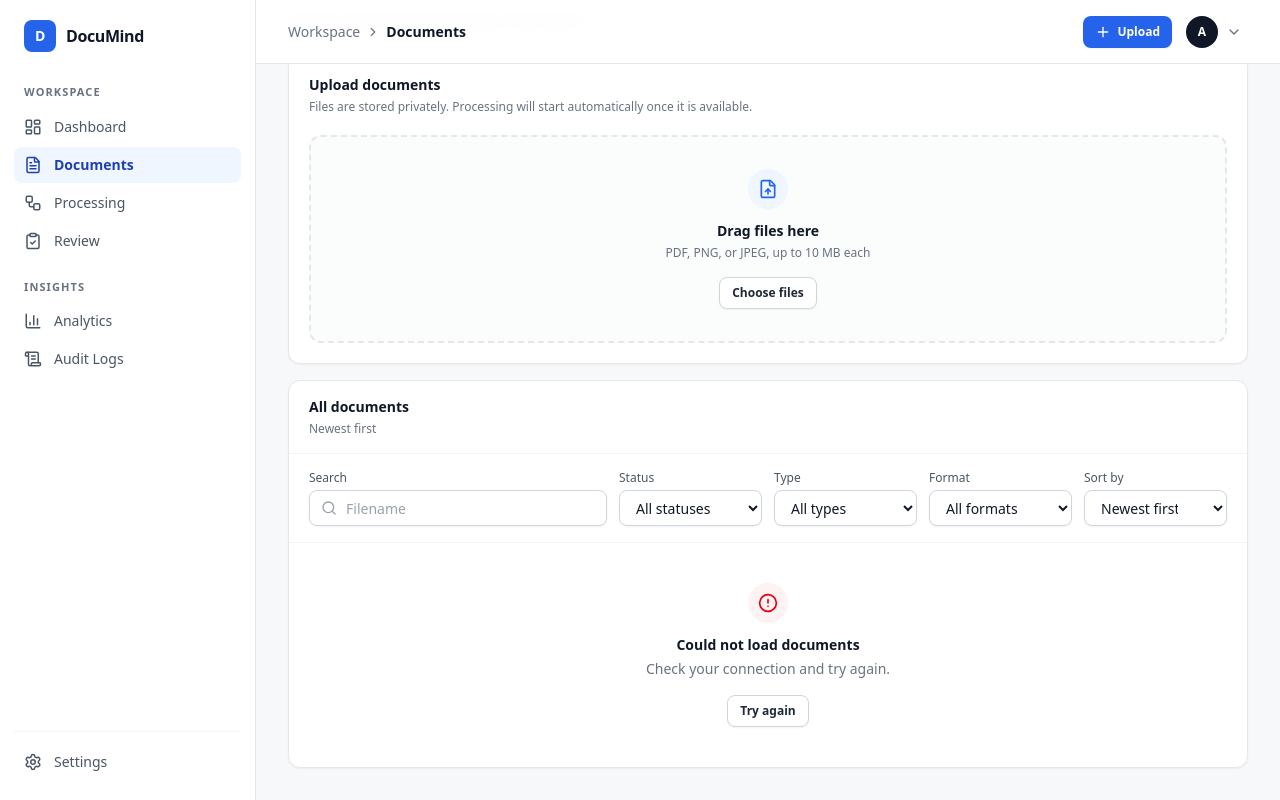
Test: DocumentsPage › list › shows an error with retry when the list cannot load
(page scrolled)
Click the button "Try again" at [768, 711], box [727,695,809,727]
(page scrolled)
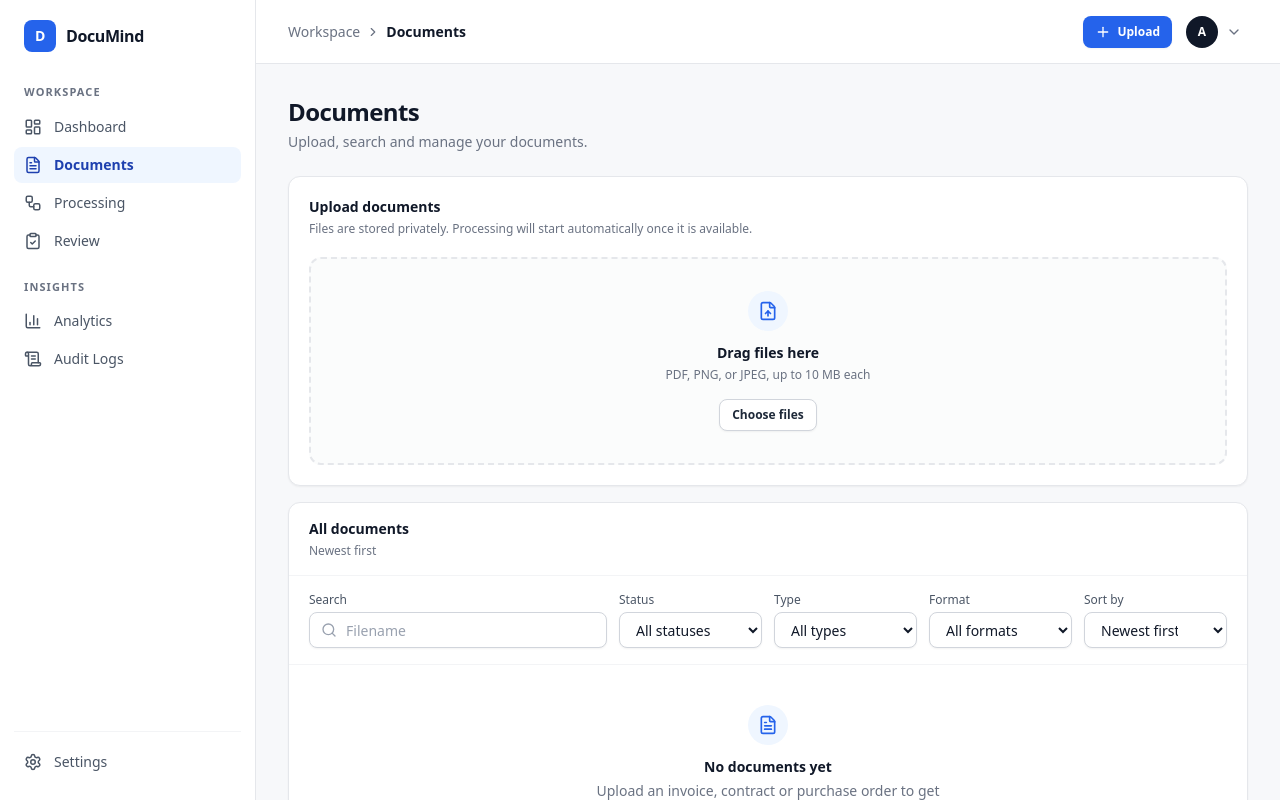
Now the text "No documents yet" is shown, box [704,757,832,777]
